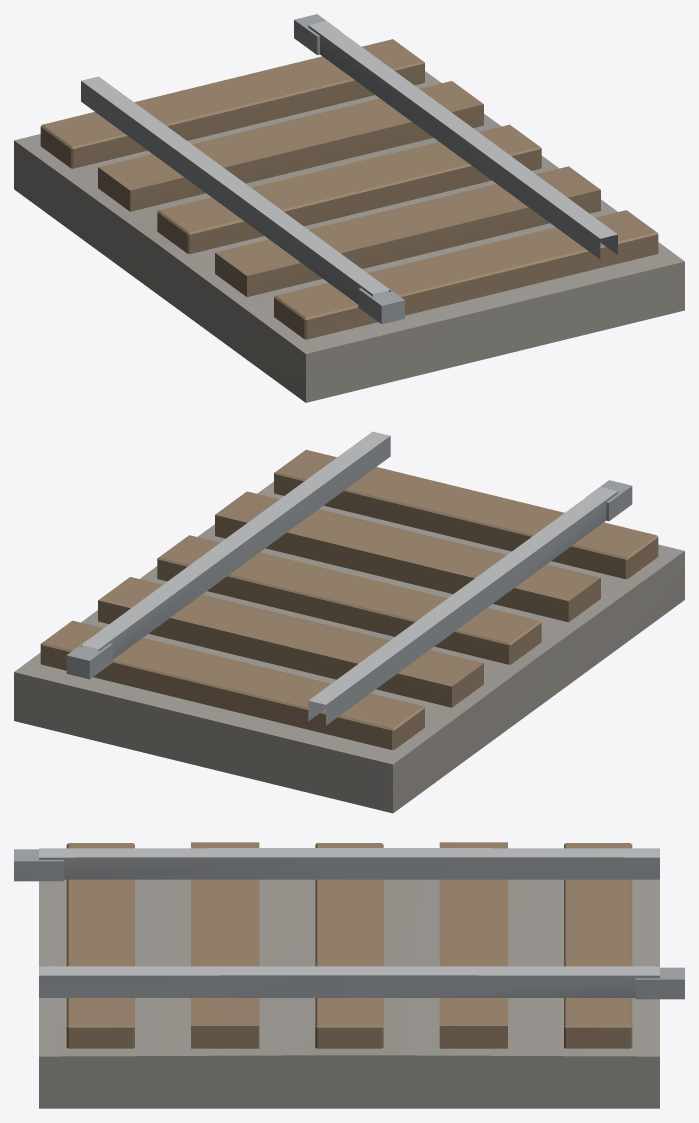
Rendered from rail_straight_2.glb.
3 renders of one model, top to bottom at view 1: azimuth 30°, elevation 25°; view 2: azimuth 150°, elevation 25°; view 3: azimuth 270°, elevation 25°, orthographic. The views are drawn at different scales.
Parts seen in each view (by area): view 1: geometry_rail_straight_2; view 2: geometry_rail_straight_2; view 3: geometry_rail_straight_2.
Part boxes in pixels (bbox=[...]): geometry_rail_straight_2: bbox=[14, 14, 684, 402]; geometry_rail_straight_2: bbox=[14, 431, 684, 813]; geometry_rail_straight_2: bbox=[14, 842, 684, 1108].
Size of the model in its own units: 1.5 by 0.35 by 2.16.
